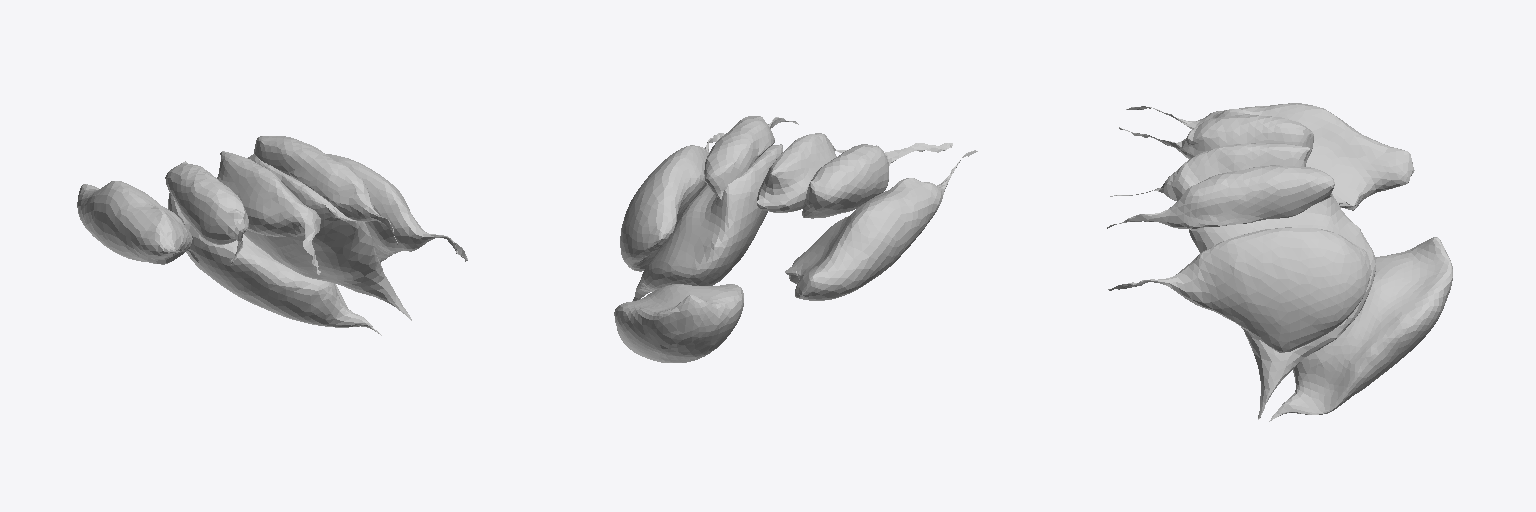
File: rand_0_muscle.obj
3 views of the same model, side by side, from view 1: azimuth 30°, elevation 25°; view 2: azimuth 150°, elevation 25°; view 3: azimuth 270°, elevation 25° (orthographic).
Bounding box in the file's own units: 80.09 × 55.88 × 82.27.